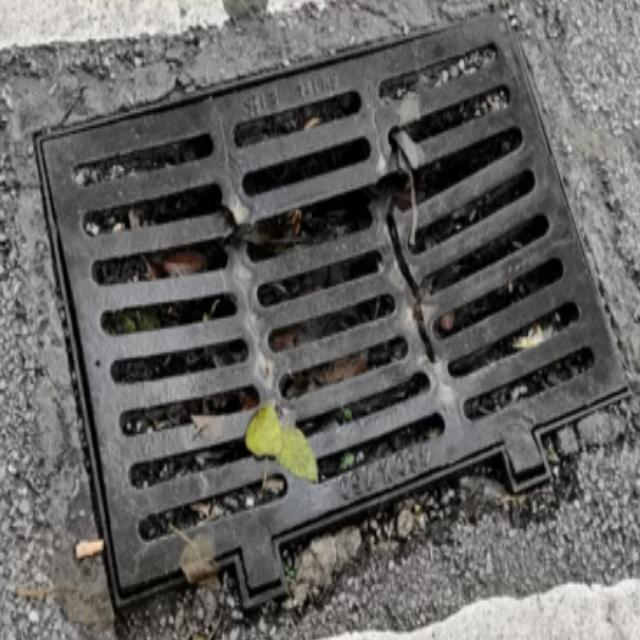manhole: (32, 14, 635, 640)
